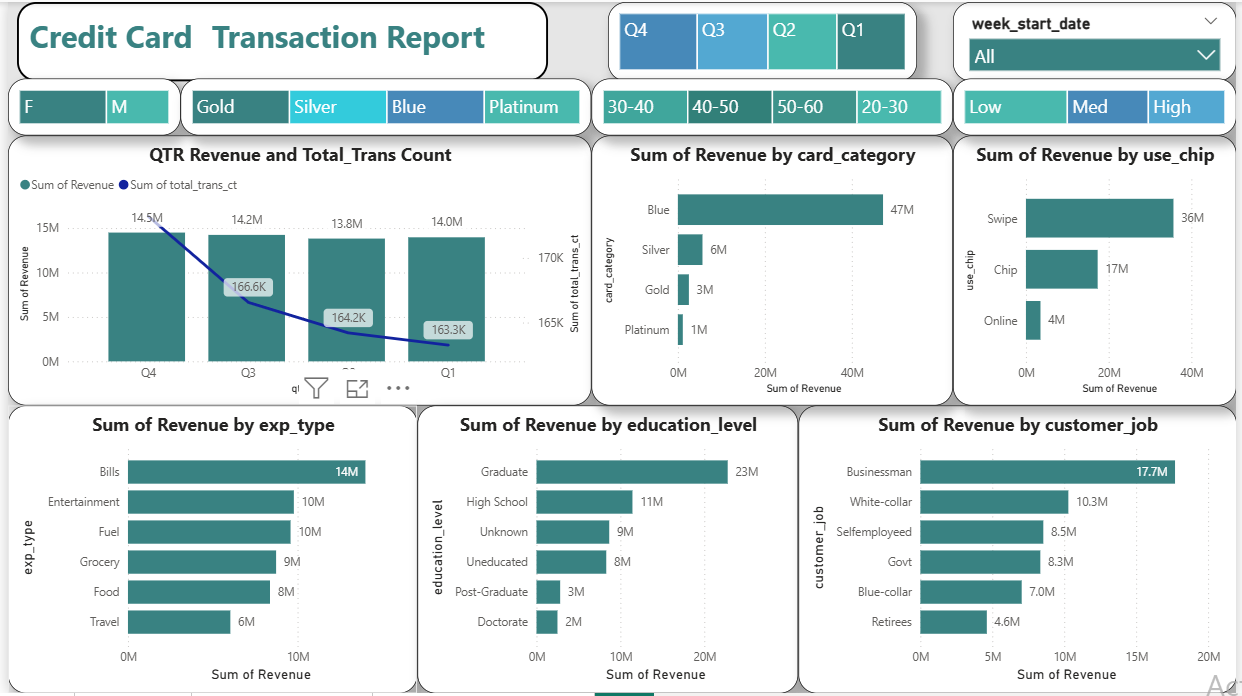

What the dashboard file says about the page in this screenshot:
{"tool":"powerbi","page":{"name":"CC Transaction","canvas":[1280,720],"ordinal":2},"visuals":[{"type":"textbox","box":[9.4,0,553.3,82.8],"z":0},{"type":"lineStackedColumnComboChart","title":"QTR Revenue and Total_Trans Count","fields":{"Category":["public cc_detail.qtr"],"Y":["Sum(public cc_detail.Revenue)"],"Y2":["Sum(public cc_detail.total_trans_ct)"]},"box":[0,139.1,608,281.3],"z":1000},{"type":"clusteredBarChart","fields":{"Category":["public cc_detail.exp_type"],"Y":["Sum(public cc_detail.Revenue)"]},"box":[0,420.4,426.7,300.1],"z":2000},{"type":"clusteredBarChart","fields":{"Category":["public cust_detail.education_level"],"Y":["Sum(public cc_detail.Revenue)"]},"box":[426.7,420.4,397,300.1],"z":3000},{"type":"clusteredBarChart","fields":{"Category":["public cust_detail.customer_job"],"Y":["Sum(public cc_detail.Revenue)"]},"box":[823.7,420.4,456.4,300.1],"z":4000},{"type":"clusteredBarChart","fields":{"Category":["public cc_detail.card_category"],"Y":["Sum(public cc_detail.Revenue)"]},"box":[608,139.1,376.7,281.3],"z":5000},{"type":"clusteredBarChart","fields":{"Category":["public cc_detail.use_chip"],"Y":["Sum(public cc_detail.Revenue)"]},"box":[984.7,139.1,295.4,281.3],"z":6000},{"type":"slicer","fields":{"Values":["public cc_detail.week_start_date"]},"box":[984.7,0,295.4,82.8],"z":7000},{"type":"treemap","fields":{"Group":["public cc_detail.qtr"],"Values":["Avg(public cc_detail.client_num)"]},"box":[625.2,0,322,82.8],"z":8000},{"type":"treemap","fields":{"Group":["public cust_detail.gender"],"Values":["CountNonNull(public cust_detail.client_num)"]},"box":[0,79.7,179.7,59.4],"z":9000},{"type":"treemap","fields":{"Group":["public cc_detail.card_category"],"Values":["Avg(public cc_detail.client_num)"]},"box":[179.7,79.7,428.3,59.4],"z":10000},{"type":"treemap","fields":{"Group":["public cust_detail.AgeGroup"],"Values":["Avg(public cc_detail.client_num)"]},"box":[608,79.7,376.7,59.4],"z":11000},{"type":"treemap","fields":{"Group":["public cust_detail.Income Group"],"Values":["CountNonNull(public cc_detail.client_num)"]},"box":[984.7,79.7,295.4,59.4],"z":12000}]}

Visuals, with their boxes in screenshot pixels (x1, y1, x2, y2), scaled from the page's 1280x720 canvas onto the 1242x696 screenshot:
textbox: 9 0 546 80
"QTR Revenue and Total_Trans Count" lineStackedColumnComboChart: 0 134 590 406
clusteredBarChart - public cc_detail.exp_type x Sum(public cc_detail.Revenue): 0 406 414 695
clusteredBarChart - public cust_detail.education_level x Sum(public cc_detail.Revenue): 414 406 799 695
clusteredBarChart - public cust_detail.customer_job x Sum(public cc_detail.Revenue): 799 406 1241 695
clusteredBarChart - public cc_detail.card_category x Sum(public cc_detail.Revenue): 590 134 955 406
clusteredBarChart - public cc_detail.use_chip x Sum(public cc_detail.Revenue): 955 134 1241 406
slicer - public cc_detail.week_start_date: 955 0 1241 80
treemap - public cc_detail.qtr x Avg(public cc_detail.client_num): 607 0 919 80
treemap - public cust_detail.gender x CountNonNull(public cust_detail.client_num): 0 77 174 134
treemap - public cc_detail.card_category x Avg(public cc_detail.client_num): 174 77 590 134
treemap - public cust_detail.AgeGroup x Avg(public cc_detail.client_num): 590 77 955 134
treemap - public cust_detail.Income Group x CountNonNull(public cc_detail.client_num): 955 77 1241 134
